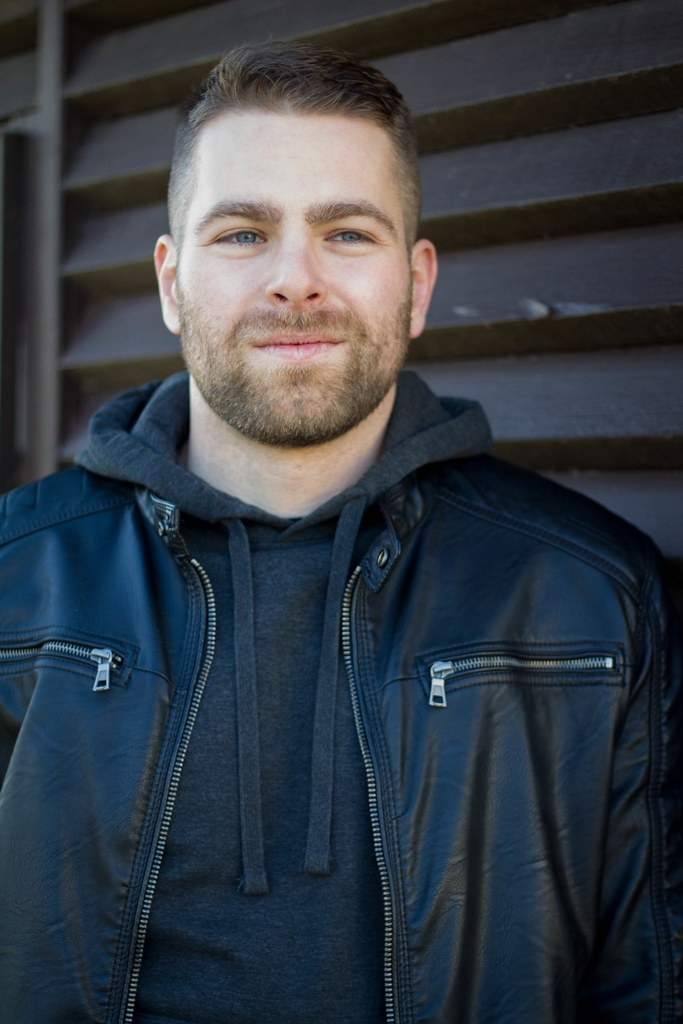without_mask: (156, 94, 450, 441)
